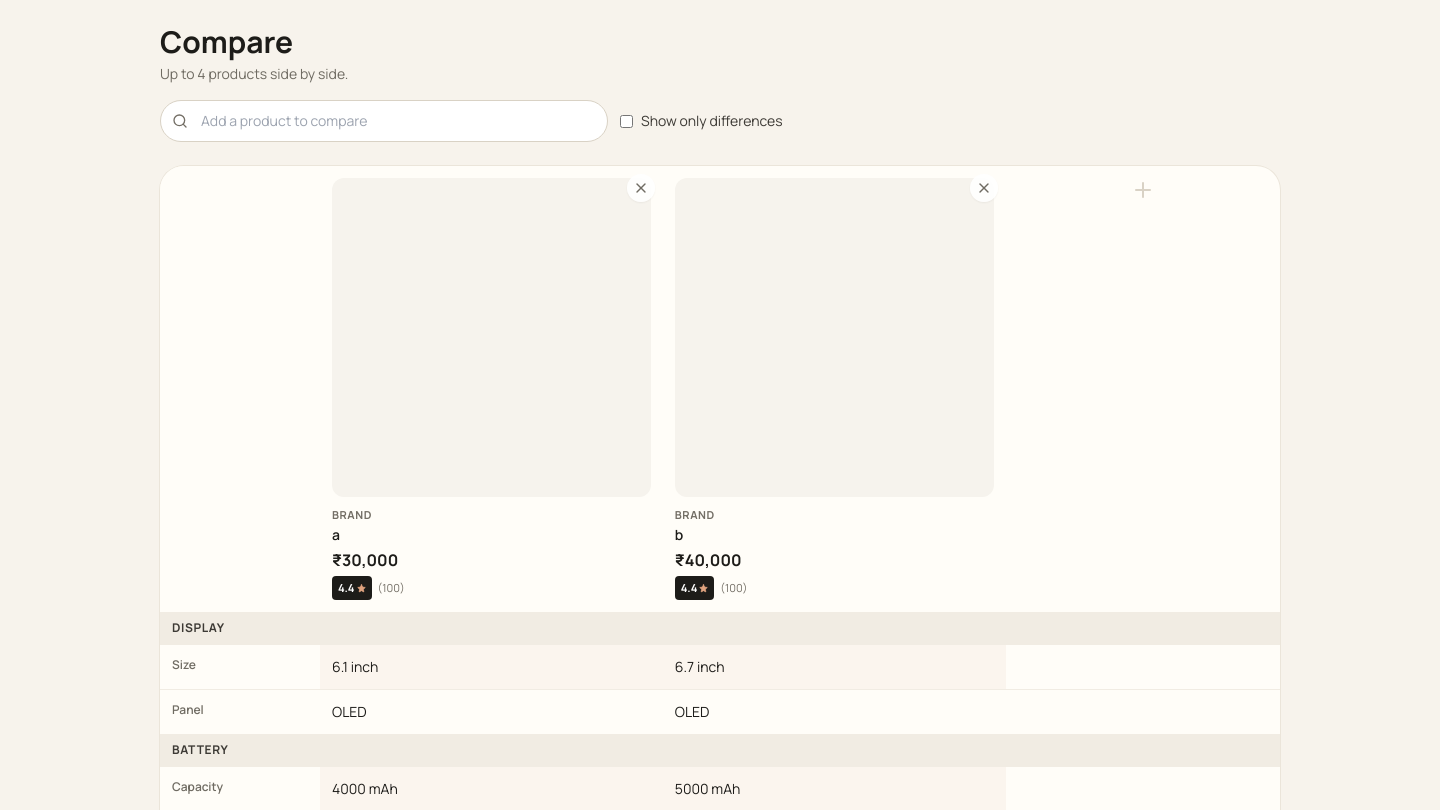
Test: ComparePage › compares products from the URL and can show only the differences
Check: the text "6.7 inch" is shown, box [663, 645, 1006, 690]
Check: the text "OLED" is shown 2 times, box [320, 690, 663, 734]; [663, 690, 1006, 734]
Click the checkbox labelled "Show only differences": point(626, 121) [620, 114, 633, 128]
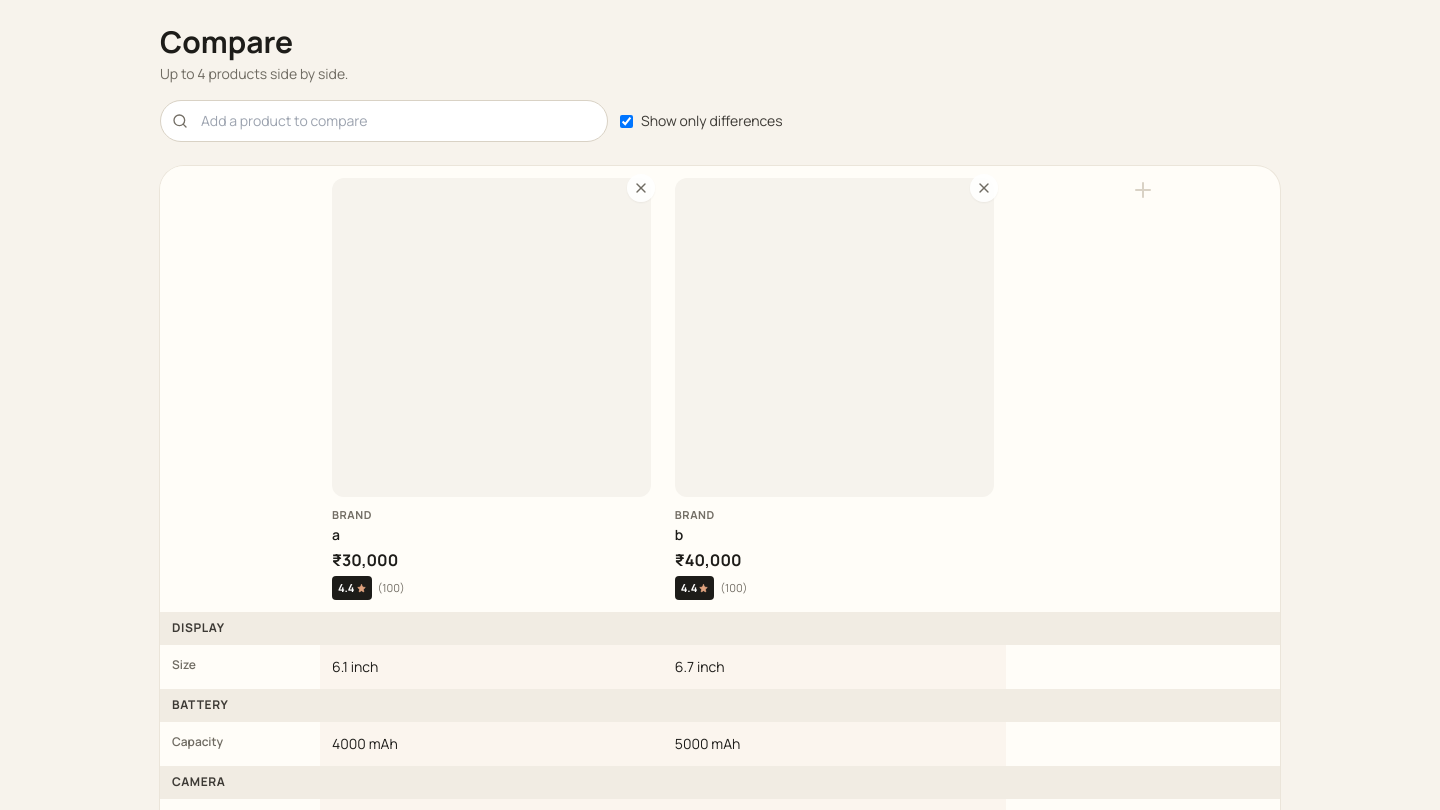
Check: the column heading "Capacity" is shown, box [160, 722, 320, 766]
Check: the column heading "Panel" is gone
